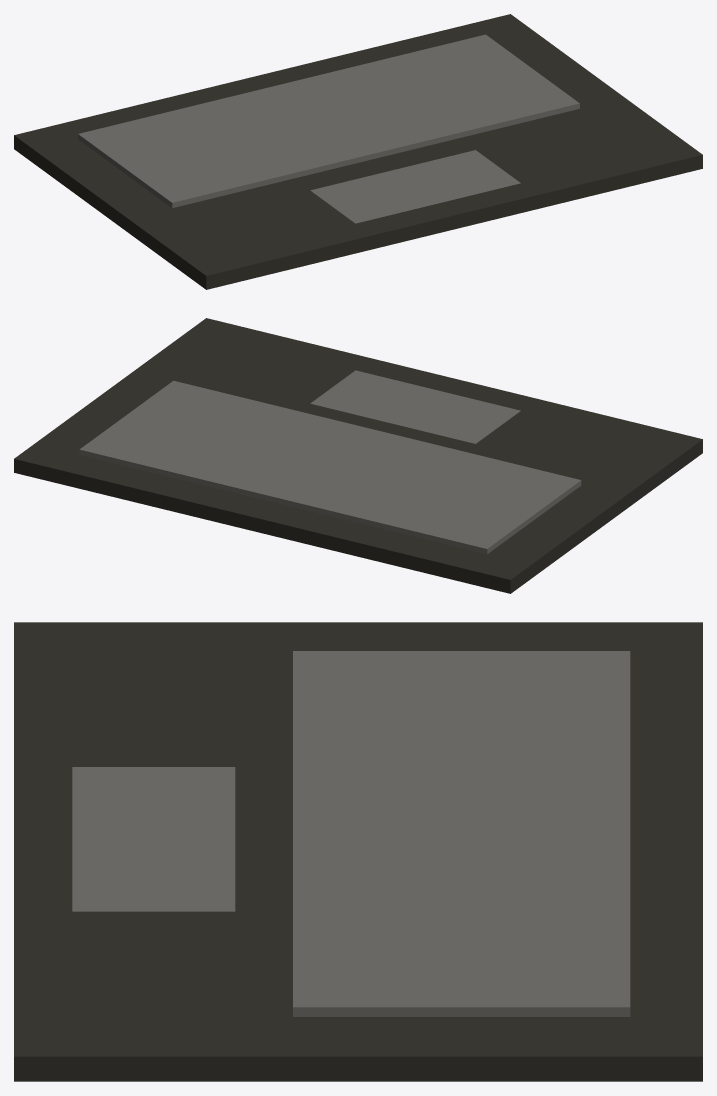
The model's file is Laptop_Keyboard.fbx.
The picture shows the model from 3 angles, top to bottom: view 1: azimuth 30°, elevation 25°; view 2: azimuth 150°, elevation 25°; view 3: azimuth 270°, elevation 25°; orthographic projection. The views are drawn at different scales.
Visible parts, largest first — view 1: FORK:laptop_down; view 2: FORK:laptop_down; view 3: FORK:laptop_down.
Part boxes in pixels (<box>): FORK:laptop_down: <box>14,14,702,289</box>; FORK:laptop_down: <box>14,318,702,593</box>; FORK:laptop_down: <box>14,622,702,1081</box>.
Size of the model in its own units: 48.04 by 1.79 by 32.23.
